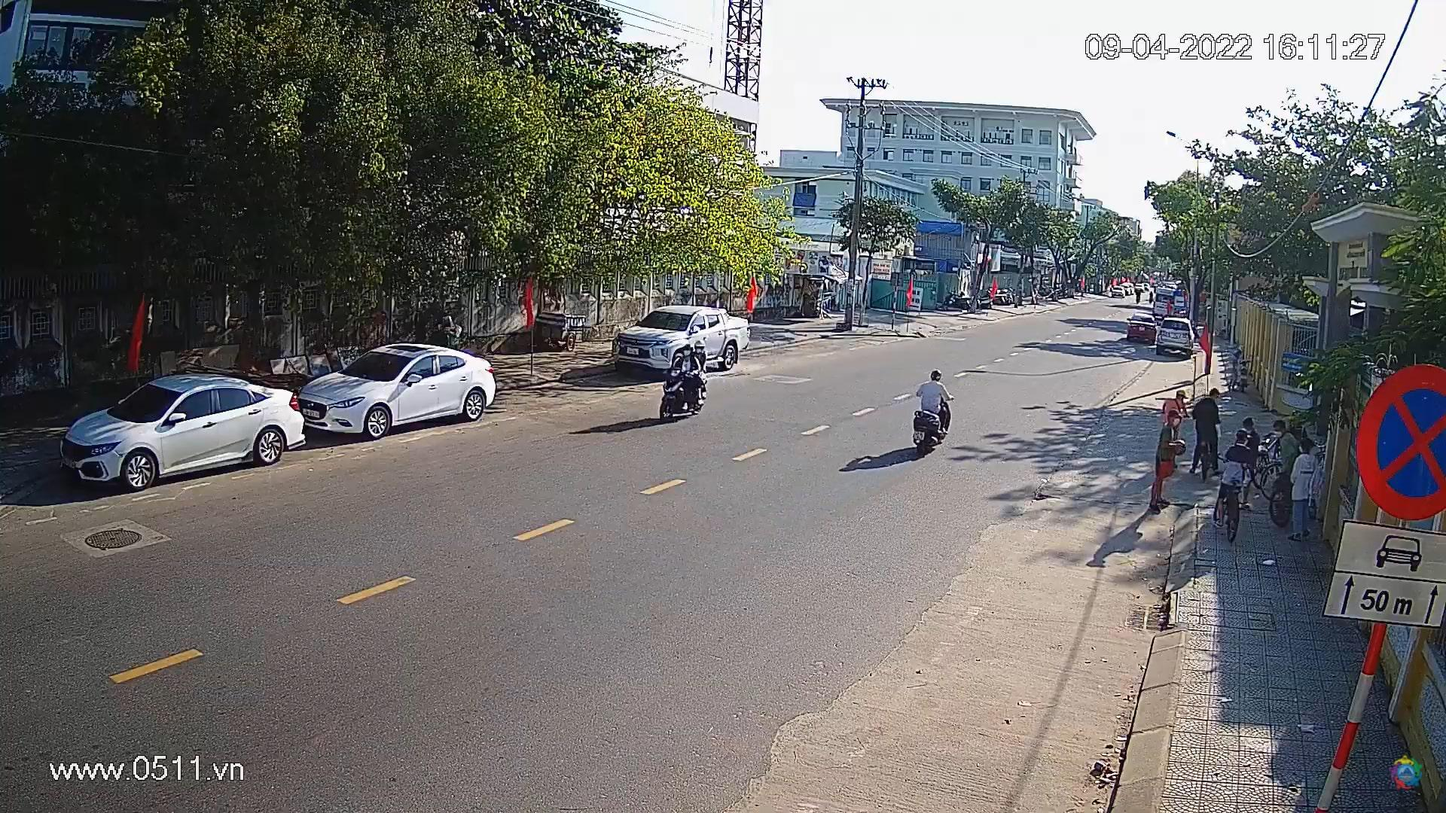car: (59, 373, 303, 490), (291, 345, 497, 442), (612, 307, 746, 377)
motorbike: (660, 364, 711, 423), (912, 397, 955, 454)
